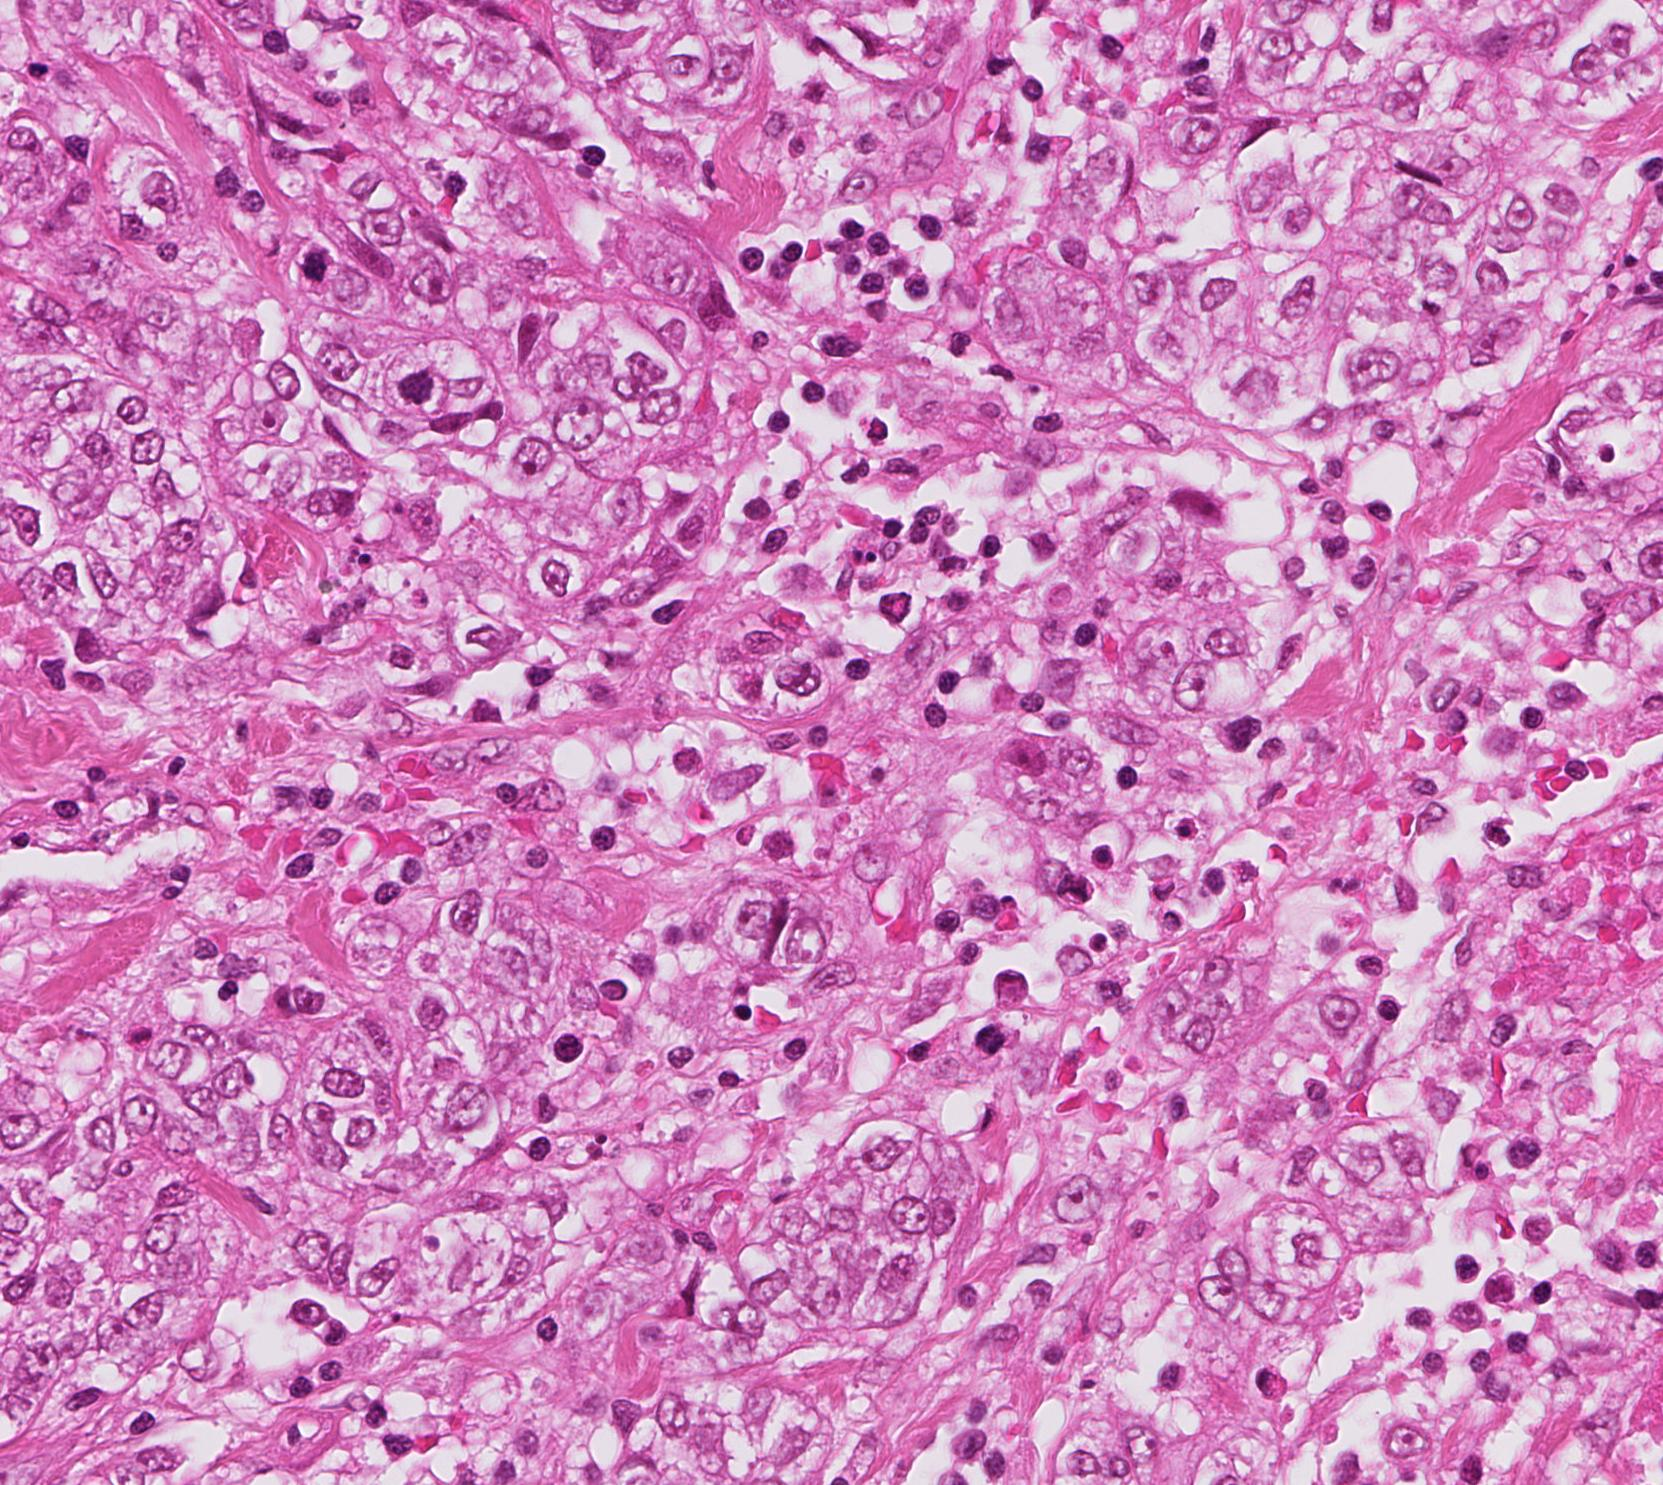mitosis: (389, 348, 449, 409), (288, 242, 348, 302), (950, 1008, 1011, 1066)
